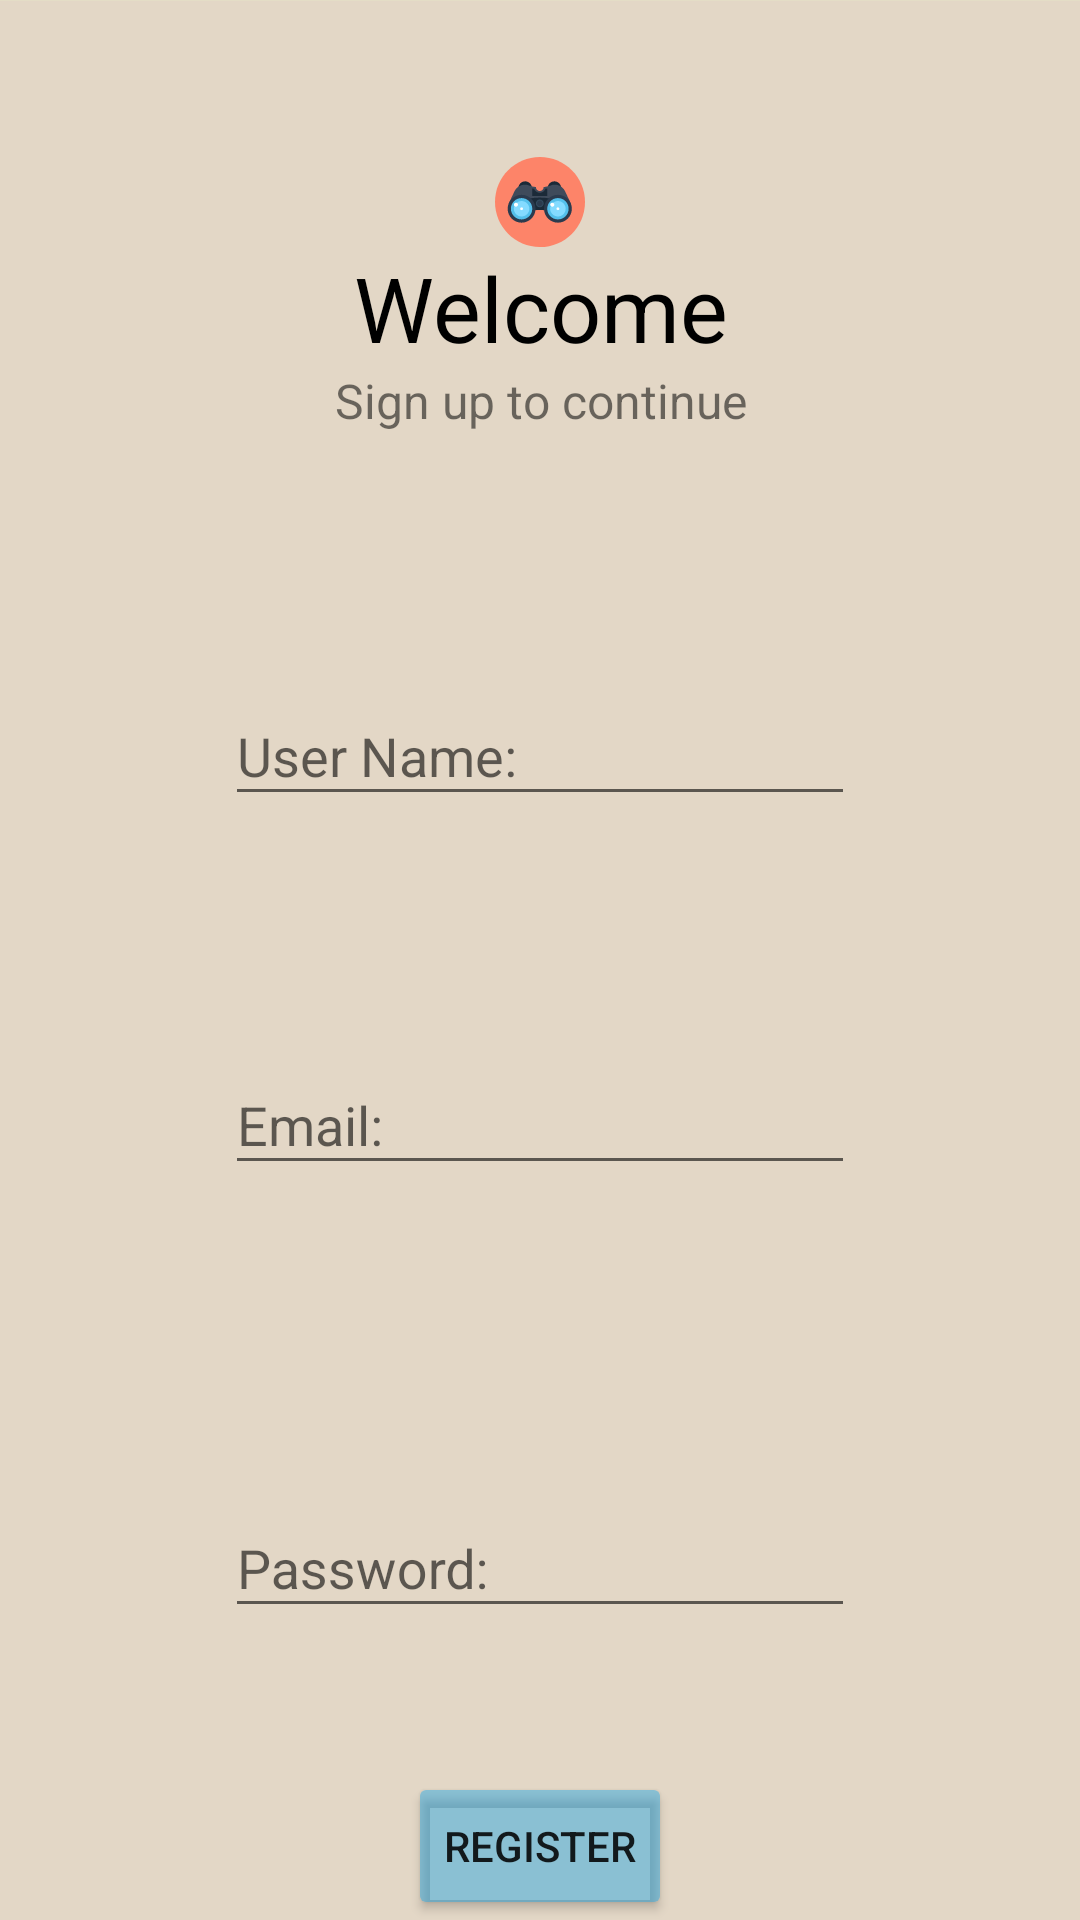

Where icons sit on this 1080px×1920px app screen, as (x1, y1, x2, y2):
binoculars: (495, 157, 585, 247)
